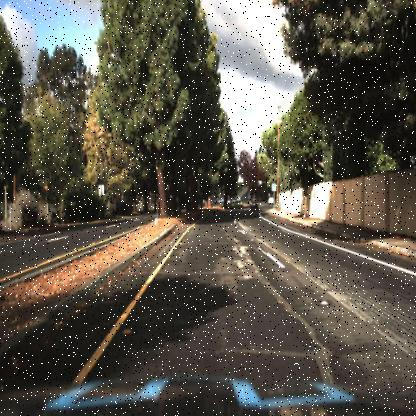car: (247, 194, 262, 211)
